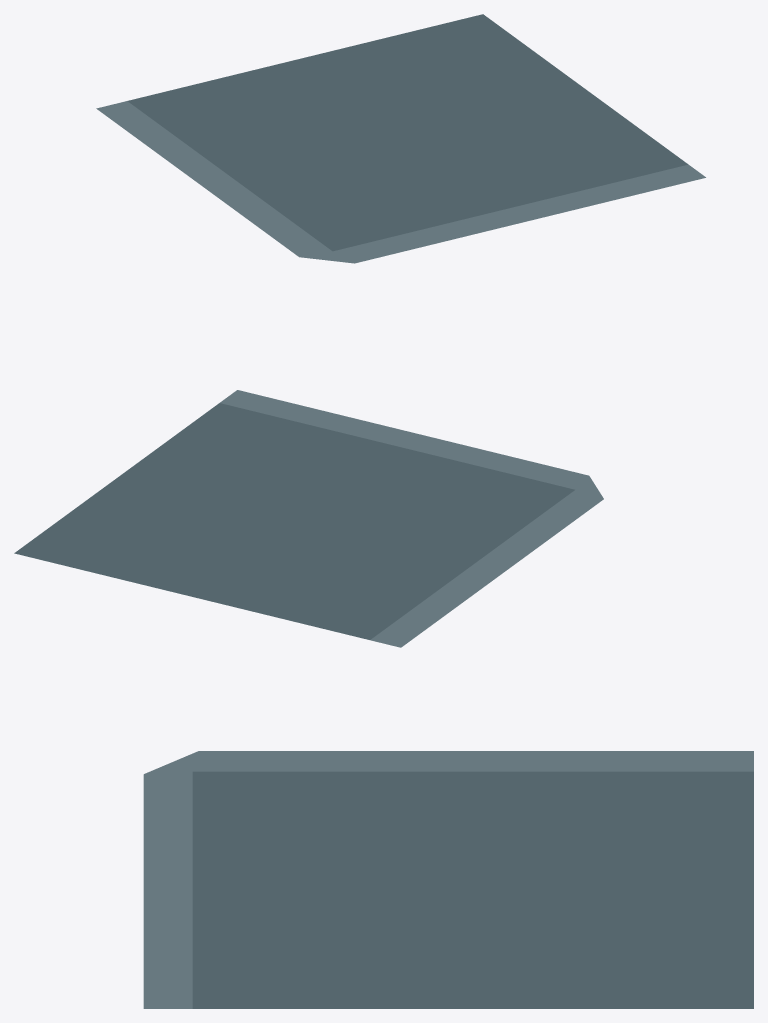
File: Ceiling_type_C_023.glb
3 views of the same model, one above another, from view 1: azimuth 30°, elevation 25°; view 2: azimuth 150°, elevation 25°; view 3: azimuth 270°, elevation 25° (orthographic). The views are drawn at different scales.
Parts seen in each view (by area): view 1: Ceiling_type_C_023; view 2: Ceiling_type_C_023; view 3: Ceiling_type_C_023.
Part boxes in pixels (bbox=[...]): Ceiling_type_C_023: bbox=[96, 14, 705, 263]; Ceiling_type_C_023: bbox=[14, 390, 603, 647]; Ceiling_type_C_023: bbox=[143, 751, 753, 1008].
Size of the model in its own units: 4 by 0.0618 by 4.
2 materials, 2 textured.
